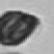correct: (0, 10, 40, 49)
